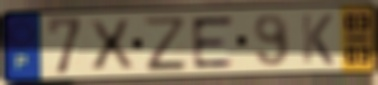7: (46, 15, 84, 78)
9: (251, 12, 291, 70)
E: (189, 14, 238, 71)
K: (299, 12, 336, 67)
X: (86, 17, 138, 74)
Z: (141, 15, 190, 74)
